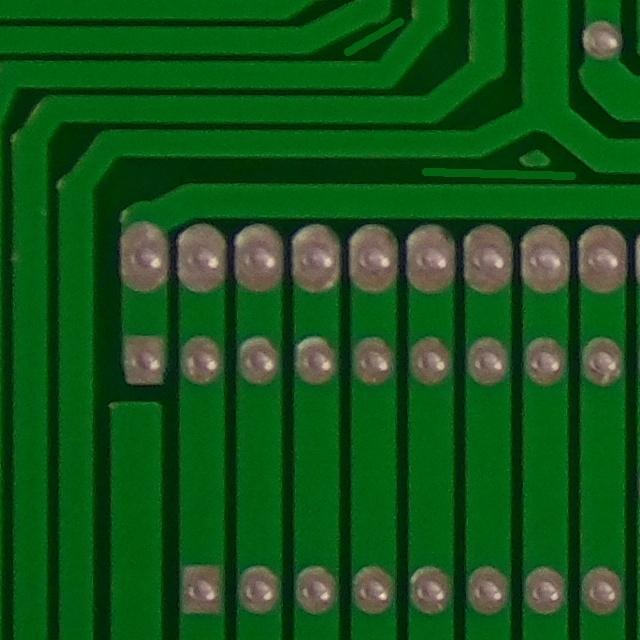spurious_copper: (415, 150, 586, 197), (334, 11, 407, 59)
